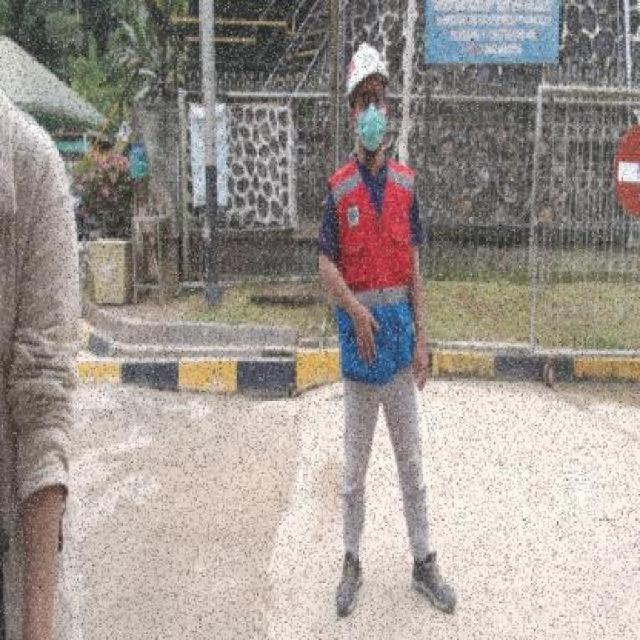goggles: (354, 87, 390, 111)
helmet: (344, 35, 390, 104)
safety_vest: (329, 154, 422, 385)
